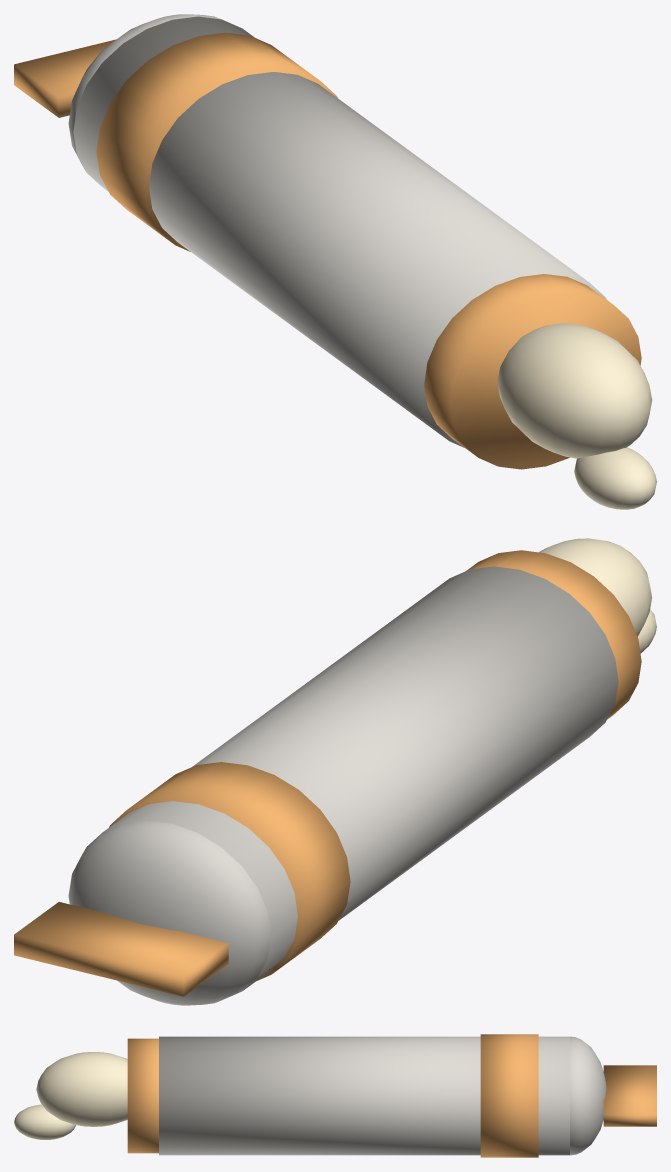
The model's file is Prop_Churu.fbx.
3 renders of one model, top to bottom at view 1: azimuth 30°, elevation 25°; view 2: azimuth 150°, elevation 25°; view 3: azimuth 270°, elevation 25°, orthographic. The views are drawn at different scales.
Parts seen in each view (by area): view 1: Prop_Churu; view 2: Prop_Churu; view 3: Prop_Churu.
Boxes of the visible parts, x1=… form: Prop_Churu: x1=14, y1=14, x2=656, y2=509; Prop_Churu: x1=14, y1=538, x2=656, y2=1005; Prop_Churu: x1=14, y1=1034, x2=656, y2=1157.
Bounding box in the file's own units: 0.029 × 0.0246 × 0.133.
